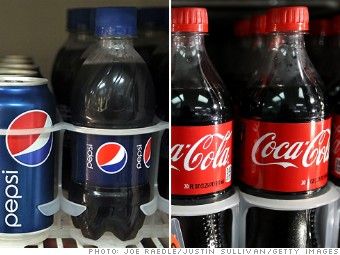pepsi: (4, 107, 52, 168), (9, 107, 52, 168), (95, 139, 127, 172), (95, 140, 127, 172), (96, 139, 127, 172), (141, 133, 150, 167)
